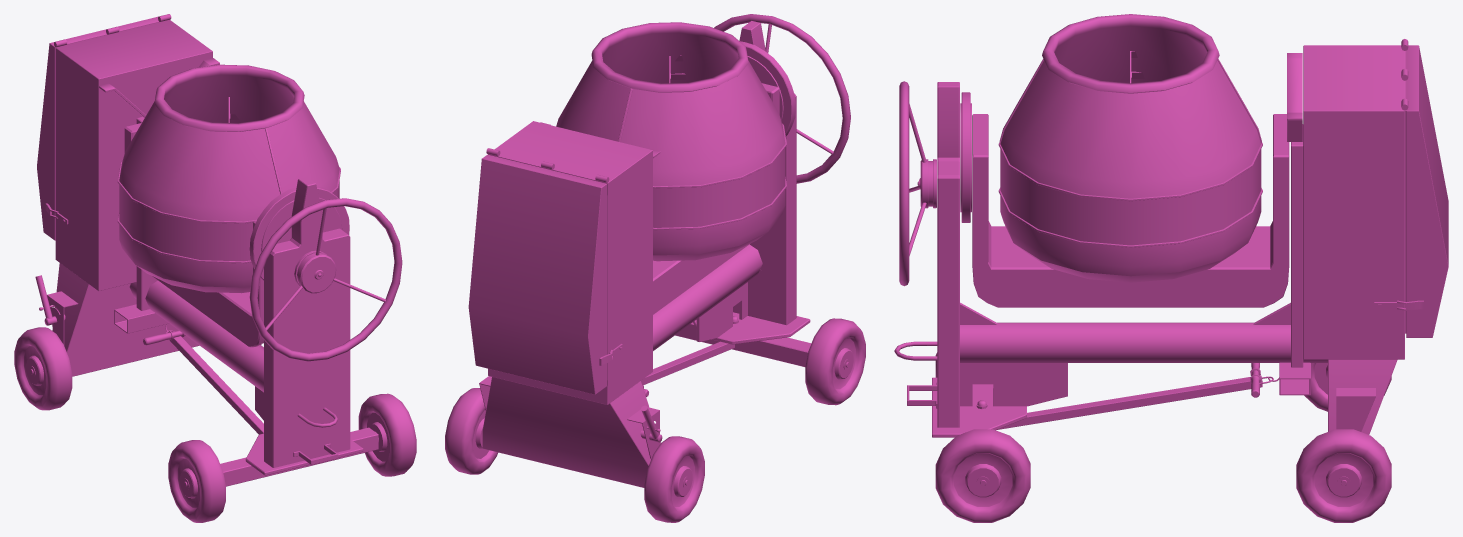
File: SM_CementMixerLOD1.FBX
3 views of the same model, side by side, from view 1: azimuth 30°, elevation 25°; view 2: azimuth 150°, elevation 25°; view 3: azimuth 270°, elevation 25° (orthographic). The views are drawn at different scales.
Parts seen in each view (by area): view 1: LOD1_MainPart, LOD1_Basket, LOD1_BackTires, LOD1_Wheel, LOD1_FrontTires, LOD1_TracktingPart, LOD1_Pivot, LOD1_Pulley; view 2: LOD1_MainPart, LOD1_Basket, LOD1_FrontTires, LOD1_BackTires, LOD1_TracktingPart, LOD1_Wheel, LOD1_Pivot, LOD1_Pulley; view 3: LOD1_MainPart, LOD1_Basket, LOD1_Pivot, LOD1_FrontTires, LOD1_BackTires, LOD1_Wheel, LOD1_TracktingPart, LOD1_Pulley.
Part boxes in pixels (left/top/right/bottom): LOD1_MainPart: left=37, top=14, right=363, bottom=475; LOD1_Basket: left=117, top=64, right=340, bottom=293; LOD1_BackTires: left=168, top=393, right=416, bottom=522; LOD1_Wheel: left=249, top=198, right=402, bottom=361; LOD1_FrontTires: left=14, top=327, right=261, bottom=410; LOD1_TracktingPart: left=143, top=330, right=378, bottom=486; LOD1_Pivot: left=124, top=123, right=263, bottom=347; LOD1_Pulley: left=249, top=186, right=349, bottom=280; LOD1_MainPart: left=468, top=21, right=810, bottom=487; LOD1_Basket: left=556, top=22, right=786, bottom=261; LOD1_FrontTires: left=445, top=388, right=704, bottom=522; LOD1_BackTires: left=805, top=318, right=865, bottom=405; LOD1_TracktingPart: left=641, top=316, right=811, bottom=396; LOD1_Wheel: left=714, top=14, right=850, bottom=183; LOD1_Pivot: left=653, top=83, right=779, bottom=314; LOD1_Pulley: left=740, top=41, right=795, bottom=136; LOD1_MainPart: left=894, top=39, right=1448, bottom=437; LOD1_Basket: left=998, top=14, right=1262, bottom=282; LOD1_Pivot: left=972, top=114, right=1289, bottom=307; LOD1_FrontTires: left=1296, top=363, right=1391, bottom=522; LOD1_BackTires: left=935, top=352, right=1030, bottom=522; LOD1_Wheel: left=899, top=81, right=936, bottom=286; LOD1_TracktingPart: left=976, top=363, right=1273, bottom=429; LOD1_Pulley: left=960, top=92, right=971, bottom=222.
Bounding box in the file's own units: 0.89 × 1.4 × 1.7.
